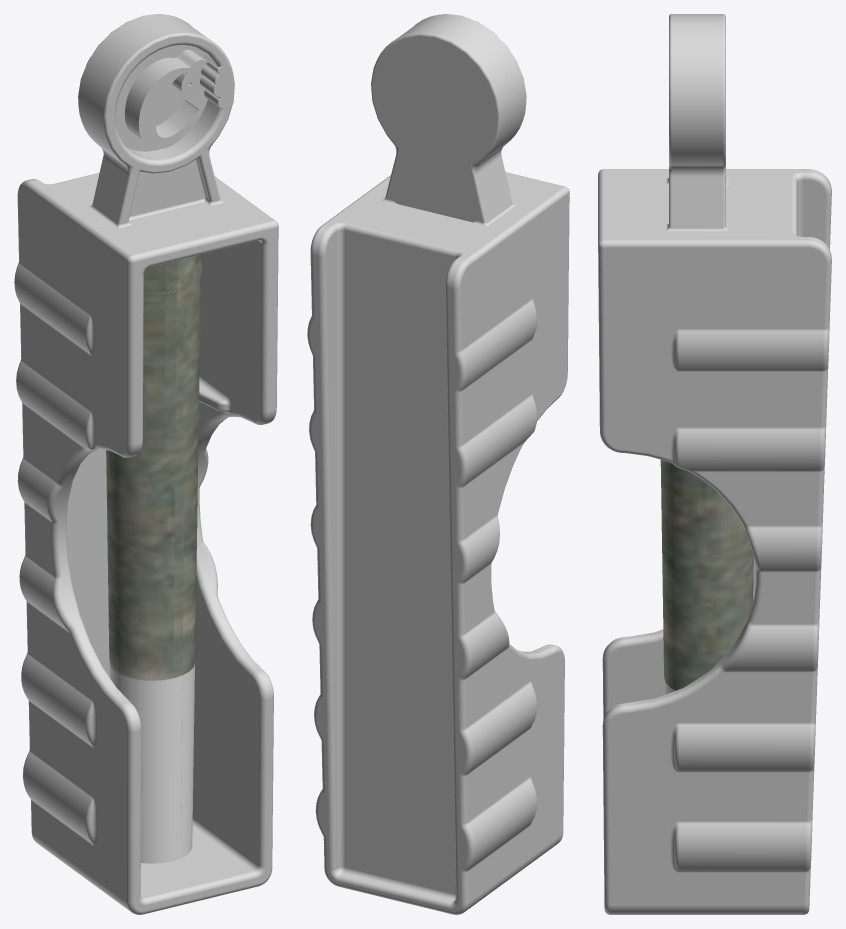
The model's file is holder.glb.
The picture shows the model from 3 angles, left to right: view 1: azimuth 30°, elevation 25°; view 2: azimuth 150°, elevation 25°; view 3: azimuth 270°, elevation 25°; orthographic projection. The views are drawn at different scales.
Parts seen in each view (by area): view 1: roachpack-holder-cookie, rouchpack-single-joint.008_rouchpack-single-joint.017; view 2: roachpack-holder-cookie; view 3: roachpack-holder-cookie, rouchpack-single-joint.008_rouchpack-single-joint.017.
Part boxes in pixels (bbox=[...]): roachpack-holder-cookie: bbox=[14, 14, 278, 914]; rouchpack-single-joint.008_rouchpack-single-joint.017: bbox=[106, 254, 202, 863]; roachpack-holder-cookie: bbox=[307, 14, 569, 914]; roachpack-holder-cookie: bbox=[598, 14, 831, 914]; rouchpack-single-joint.008_rouchpack-single-joint.017: bbox=[660, 460, 753, 694].
Size of the model in its own units: 1.56 by 7.85 by 1.93.
2 materials, 1 textured.
